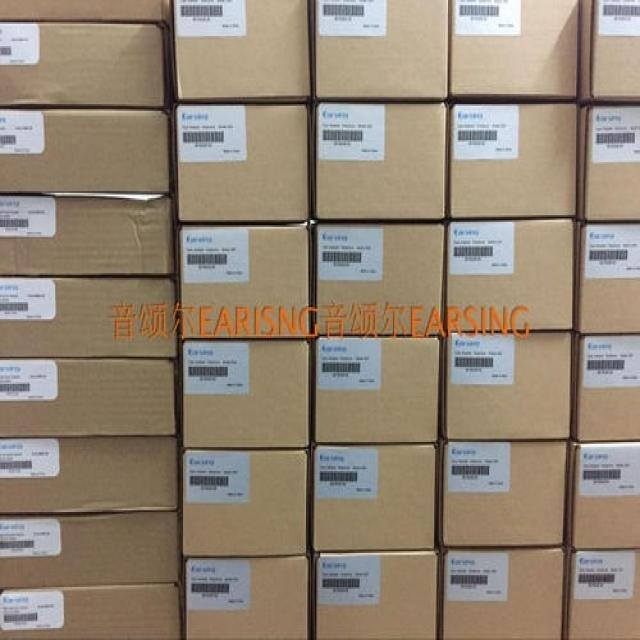box: (177, 102, 315, 224), (314, 101, 447, 224), (0, 102, 177, 193), (447, 101, 580, 220), (442, 218, 579, 333), (180, 220, 311, 340), (308, 224, 448, 336), (0, 275, 182, 360), (440, 329, 576, 442), (0, 22, 177, 108), (0, 193, 179, 278), (0, 433, 180, 517), (0, 355, 183, 437), (180, 338, 311, 451), (310, 333, 443, 444), (180, 445, 311, 556), (173, 2, 311, 106), (436, 440, 567, 548), (308, 2, 449, 102), (448, 0, 582, 104), (0, 512, 180, 589), (310, 444, 436, 553), (436, 546, 567, 637), (310, 551, 438, 638), (177, 555, 311, 638), (0, 582, 180, 640), (567, 437, 640, 548), (570, 331, 640, 442), (576, 222, 640, 336), (579, 102, 640, 220), (564, 548, 640, 640), (581, 0, 640, 108), (0, 0, 173, 27)
